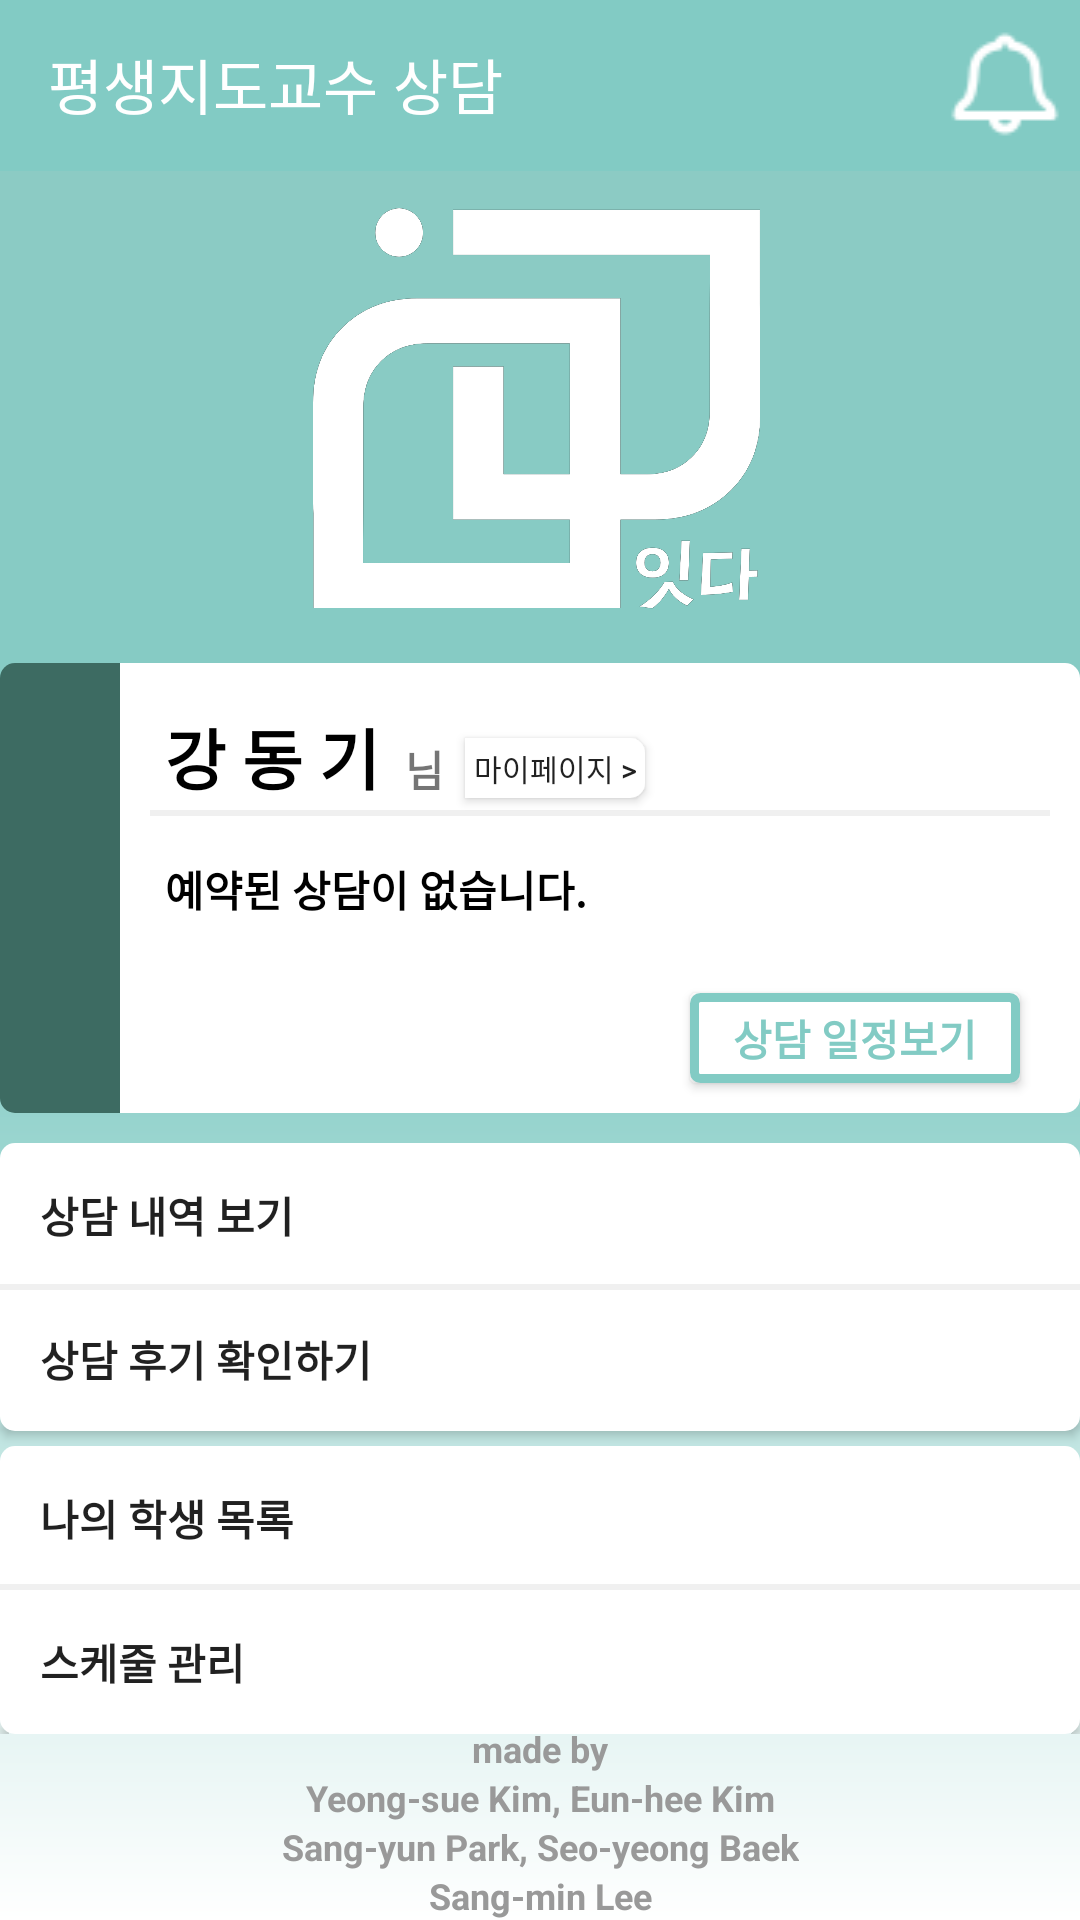

Named icons in this screenshot (1080px×1920px) and their centers, (x,y):
alert: (1005,84)
